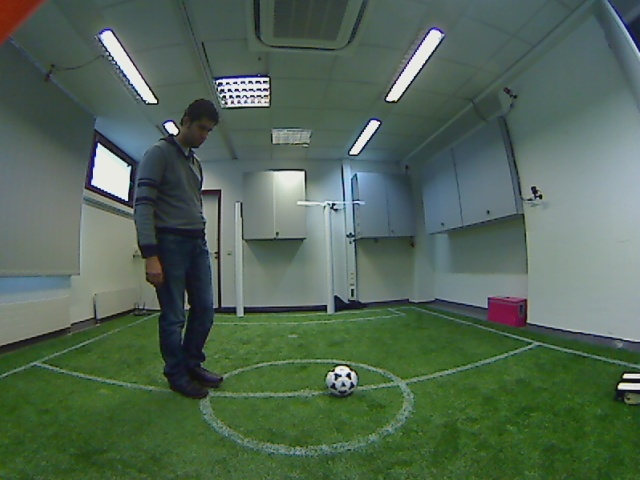ball: (320, 359, 362, 403)
